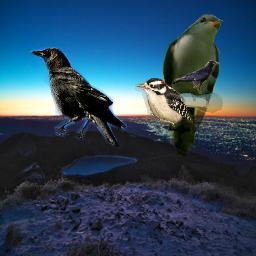Crow: (26, 46, 127, 149), (171, 60, 220, 95)
Cuckoo: (162, 14, 223, 156)
Woodpecker: (135, 78, 193, 129)
